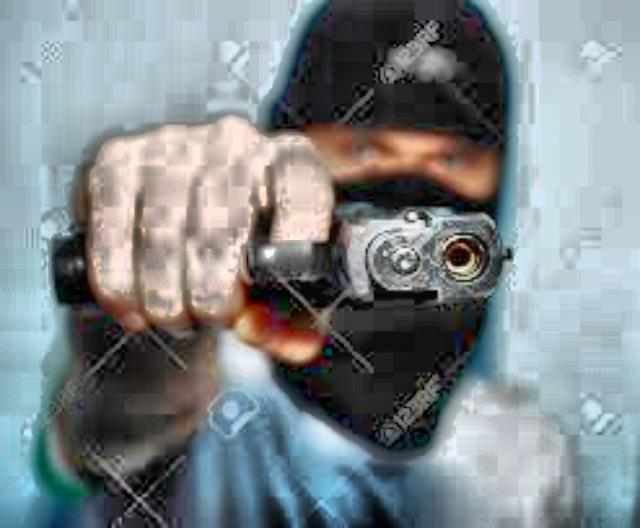pistol: (54, 202, 516, 326)
